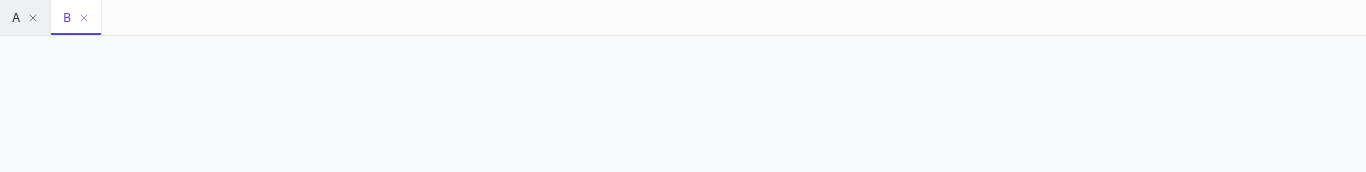
it: EditorTabBar › shows current, other, and all close actions in the tab context menu
Right-click the tab with class "editor-tab" showing "A": (26, 18) [0,0,51,35]
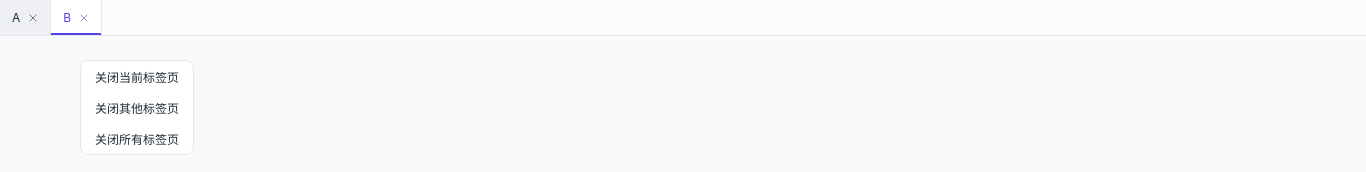
Now the element with test id "tab-context-menu" is shown, box [80,60,194,155]
Now the element with test id "tab-context-menu" shows "关闭当前标签页", box [81,61,193,92]
Now the element with test id "tab-context-menu" shows "关闭其他标签页", box [81,92,193,123]
